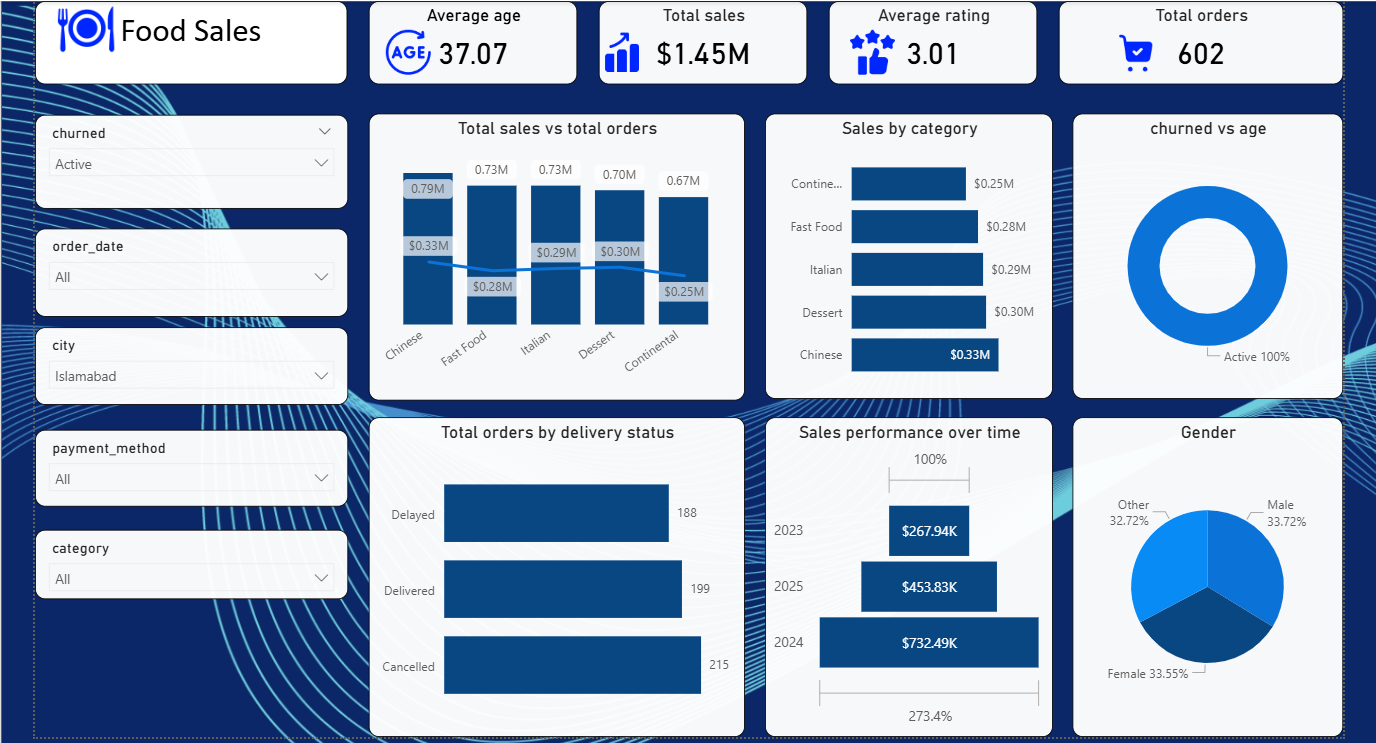

This screenshot's page, from the dashboard's own definition file:
{"tool":"powerbi","page":{"name":"Page 1","canvas":[1280,720],"ordinal":0},"visuals":[{"type":"funnel","title":"Sales performance over time","fields":{"Category":["Foodpanda Analysis Dataset.order_date.Variation.Date Hierarchy.Year"],"Y":["Sum(Foodpanda Analysis Dataset.total sales)"]},"box":[713.8,407.4,281.8,312.6],"z":0},{"type":"lineStackedColumnComboChart","title":"Total  sales vs total orders","fields":{"Category":["Foodpanda Analysis Dataset.category"],"Y":["Sum(food.Total order)"],"Y2":["Sum(Foodpanda Analysis Dataset.total sales)"]},"box":[326.2,109.5,368,280.6],"z":1000},{"type":"pieChart","title":"Gender","fields":{"Category":["Foodpanda Analysis Dataset.gender"],"Y":["CountNonNull(Foodpanda Analysis Dataset.customer_id)"]},"box":[1015.4,407.4,264.6,312.6],"z":2000},{"type":"barChart","title":"Sales  by category","fields":{"Category":["Foodpanda Analysis Dataset.category"],"Y":["Sum(food.total sales)"]},"box":[713.8,109.5,281.8,279.4],"z":3000},{"type":"barChart","title":"Total orders by delivery status","fields":{"Category":["Foodpanda Analysis Dataset.delivery_status"],"Y":["CountNonNull(Foodpanda Analysis Dataset.Total order)"]},"box":[326.2,407.4,368,312.6],"z":4000},{"type":"card","title":"Total sales","fields":{"Values":["Sum(Foodpanda Analysis Dataset.total sales)"]},"box":[551.4,0,204.3,81.2],"z":5000},{"type":"card","title":"Total orders","fields":{"Values":["CountNonNull(Foodpanda Analysis Dataset.order_id)"]},"box":[1001.8,0,278.2,81.2],"z":6000},{"type":"card","title":"Average rating","fields":{"Values":["Avg(Foodpanda Analysis Dataset.rating)"]},"box":[776.6,0,204.3,81.2],"z":7000},{"type":"card","title":"Average age","fields":{"Values":["Avg(Foodpanda Analysis Dataset.age)"]},"box":[326.2,0,204.3,81.2],"z":8000},{"type":"textbox","title":"hhhh","box":[0,0,305.2,81.2],"z":9000},{"type":"donutChart","title":" churned vs age","fields":{"Category":["Foodpanda Analysis Dataset.churned"],"Y":["Avg(food.age)"]},"box":[1015.4,109.5,264.6,279.4],"z":10000},{"type":"slicer","fields":{"Values":["Foodpanda Analysis Dataset.city"]},"box":[0,319.1,306.5,76.3],"z":11000},{"type":"slicer","fields":{"Values":["Foodpanda Analysis Dataset.category"]},"box":[0,517.2,306.5,67.7],"z":12000},{"type":"slicer","title":"Order","fields":{"Values":["Foodpanda Analysis Dataset.order_date"]},"box":[0,223.1,306.5,86.2],"z":13000},{"type":"image","box":[551.4,28.3,45.5,44.3],"z":14000},{"type":"image","box":[342.2,28.3,45.5,44.3],"z":15000},{"type":"image","box":[797.5,28.3,44.3,44.3],"z":16000},{"type":"image","box":[1054.8,28.3,43.1,44.3],"z":17000},{"type":"image","box":[20.9,0,57.8,55.4],"z":18000},{"type":"slicer","fields":{"Values":["Foodpanda Analysis Dataset.churned"]},"box":[0,111.1,306.5,92.3],"z":19000},{"type":"slicer","fields":{"Values":["Foodpanda Analysis Dataset.payment_method"]},"box":[0,420,306.5,75.1],"z":20000},{"type":"slicer","box":[0,609.2,305.2,110.8],"z":20001}]}

Visuals, with their boxes in screenshot pixels (x1, y1, x2, y2):
"Sales performance over time" funnel: rect(761, 414, 1047, 731)
"Total  sales vs total orders" lineStackedColumnComboChart: rect(367, 111, 741, 396)
"Gender" pieChart: rect(1067, 414, 1336, 731)
"Sales  by category" barChart: rect(761, 111, 1047, 395)
"Total orders by delivery status" barChart: rect(367, 414, 741, 731)
"Total sales" card: rect(596, 0, 804, 82)
"Total orders" card: rect(1054, 0, 1336, 82)
"Average rating" card: rect(825, 0, 1032, 82)
"Average age" card: rect(367, 0, 575, 82)
"hhhh" textbox: rect(36, 0, 346, 82)
" churned vs age" donutChart: rect(1067, 111, 1336, 395)
slicer - Foodpanda Analysis Dataset.city: rect(36, 324, 347, 402)
slicer - Foodpanda Analysis Dataset.category: rect(36, 525, 347, 594)
"Order" slicer: rect(36, 227, 347, 314)
image: rect(596, 29, 642, 74)
image: rect(383, 29, 430, 74)
image: rect(846, 29, 891, 74)
image: rect(1107, 29, 1151, 74)
image: rect(57, 0, 116, 56)
slicer - Foodpanda Analysis Dataset.churned: rect(36, 113, 347, 207)
slicer - Foodpanda Analysis Dataset.payment_method: rect(36, 427, 347, 503)
slicer: rect(36, 619, 346, 731)
